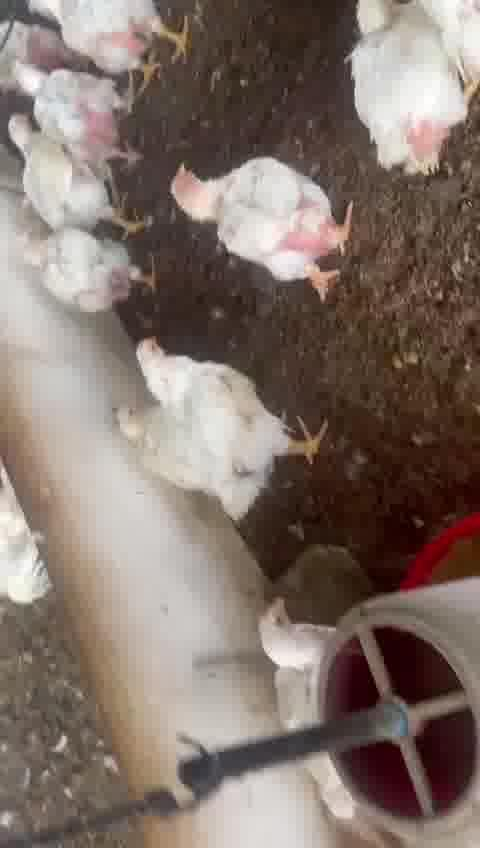Normal: (170, 156, 354, 294), (137, 334, 319, 469), (7, 110, 142, 244), (24, 0, 192, 88)
